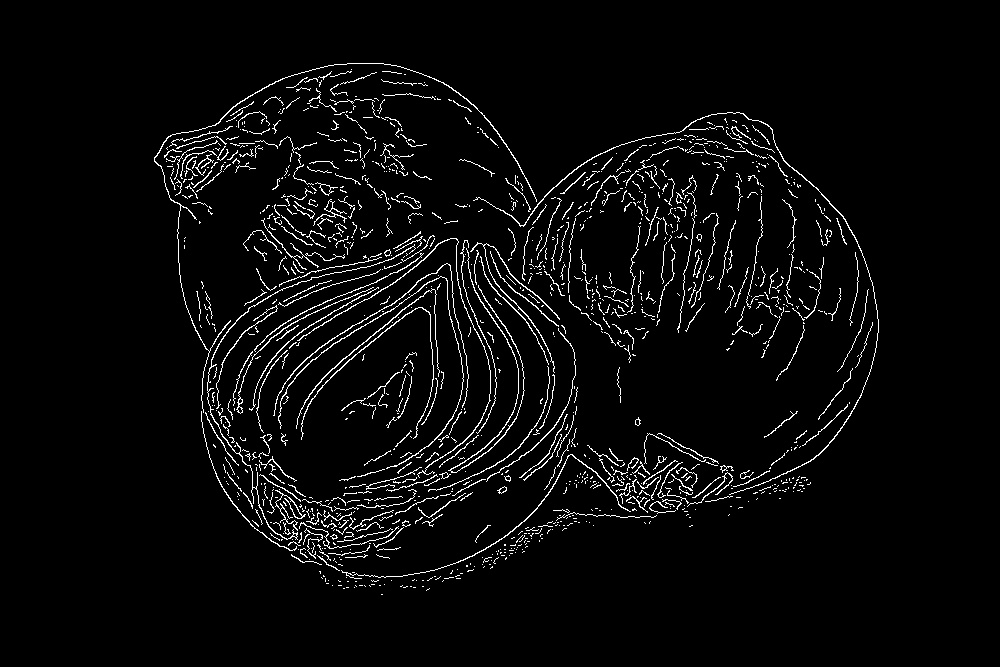red_onion: (540, 89, 889, 511), (213, 233, 589, 582), (155, 47, 551, 347)
